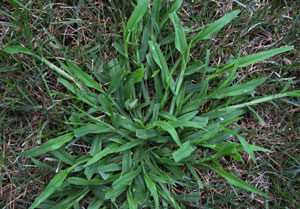crabgrass: (43, 37, 262, 198)
